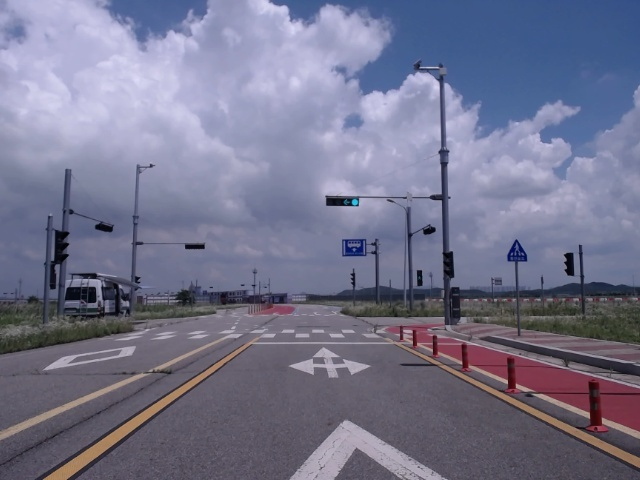all_green_4: (325, 195, 360, 207)
